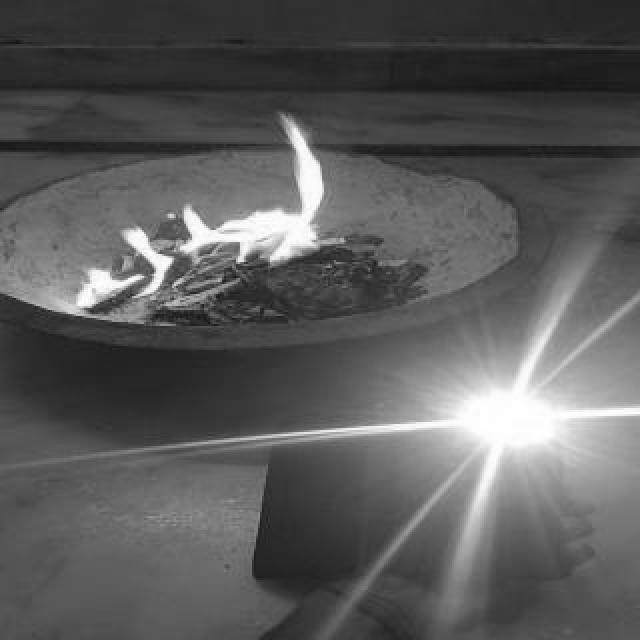Fire: (68, 116, 338, 308)
